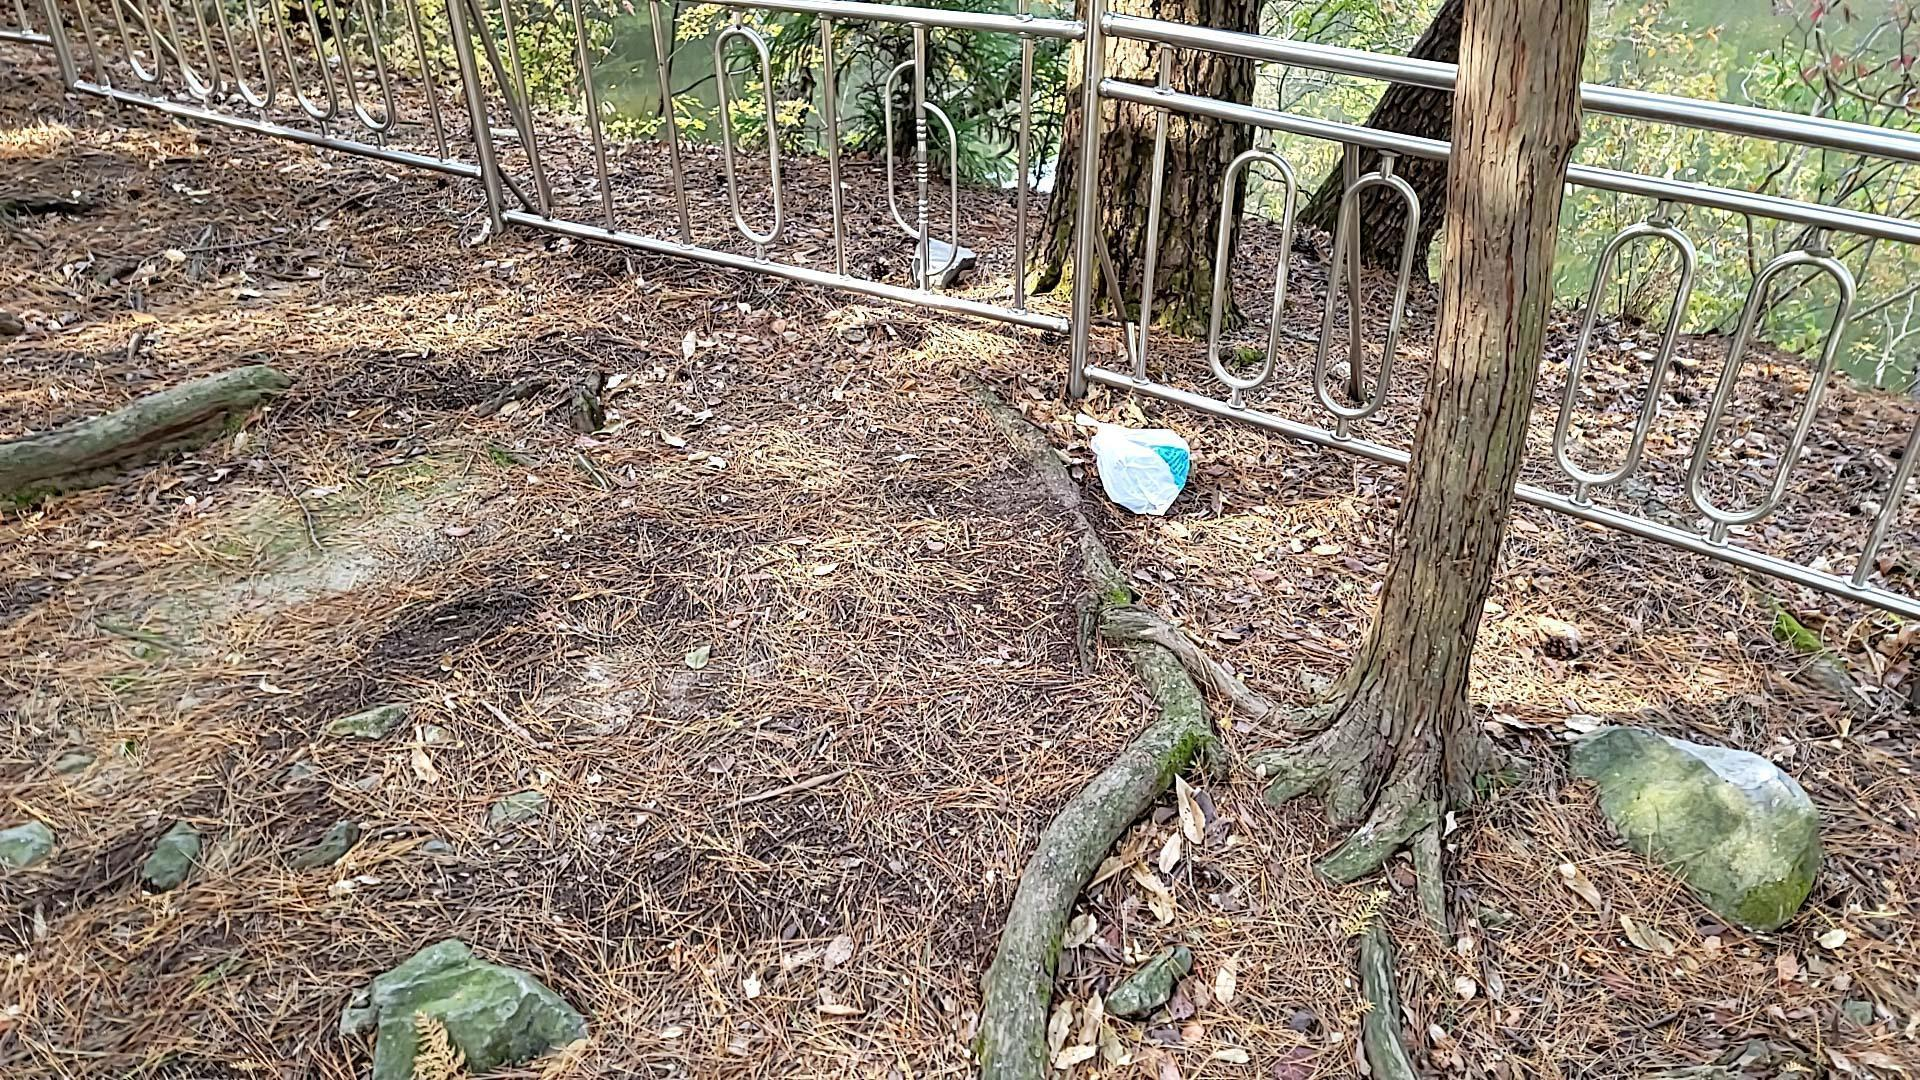white_bag: (1063, 400, 1203, 530)
